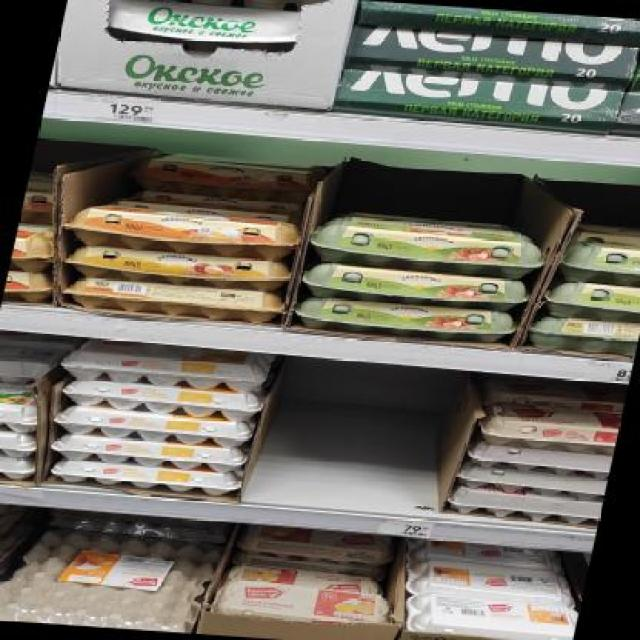Egg: (302, 209, 548, 282), (61, 204, 304, 261), (297, 259, 534, 312), (59, 336, 278, 393), (292, 294, 520, 346), (63, 243, 295, 292), (94, 0, 310, 52), (54, 377, 272, 426), (47, 405, 265, 452), (42, 432, 260, 478), (210, 580, 396, 630), (39, 458, 256, 500), (398, 592, 580, 640), (400, 559, 578, 606), (473, 400, 622, 454), (544, 278, 640, 324), (552, 241, 639, 287), (539, 316, 639, 355), (0, 336, 60, 389), (8, 222, 66, 272), (19, 179, 75, 223), (0, 383, 43, 435), (2, 270, 58, 305), (0, 428, 42, 459), (0, 452, 35, 479)
